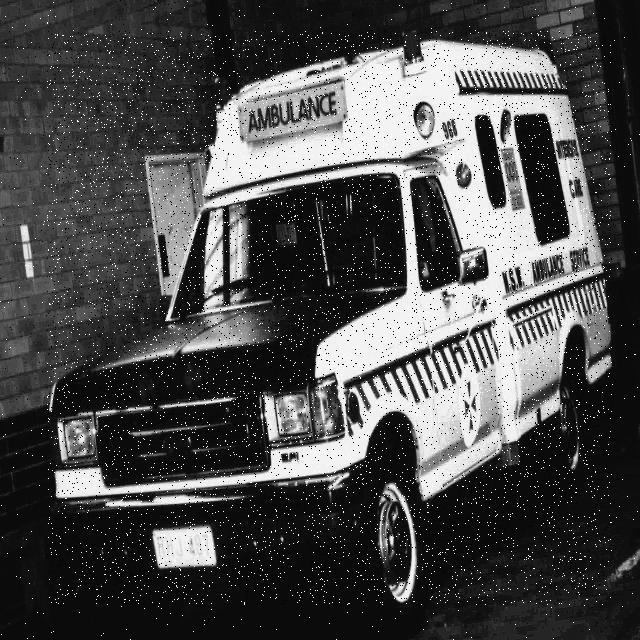Ambulance: (47, 31, 612, 605)
